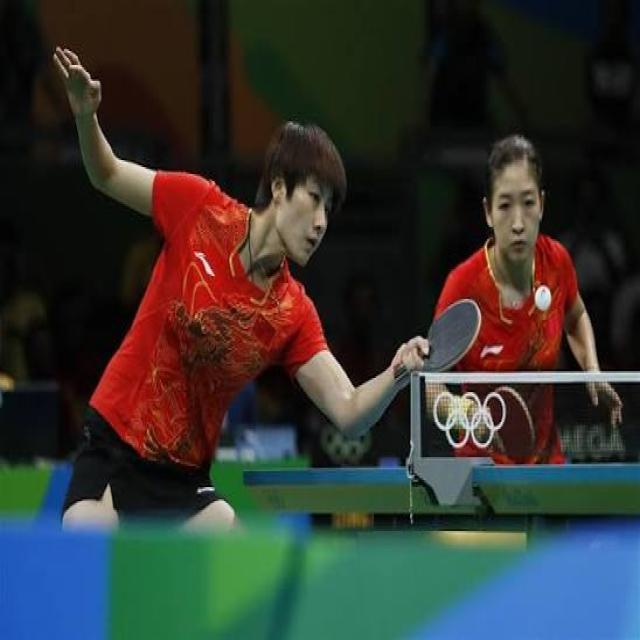TT Net: (410, 366, 639, 467)
TT Racket: (473, 376, 543, 471), (422, 293, 490, 384)
